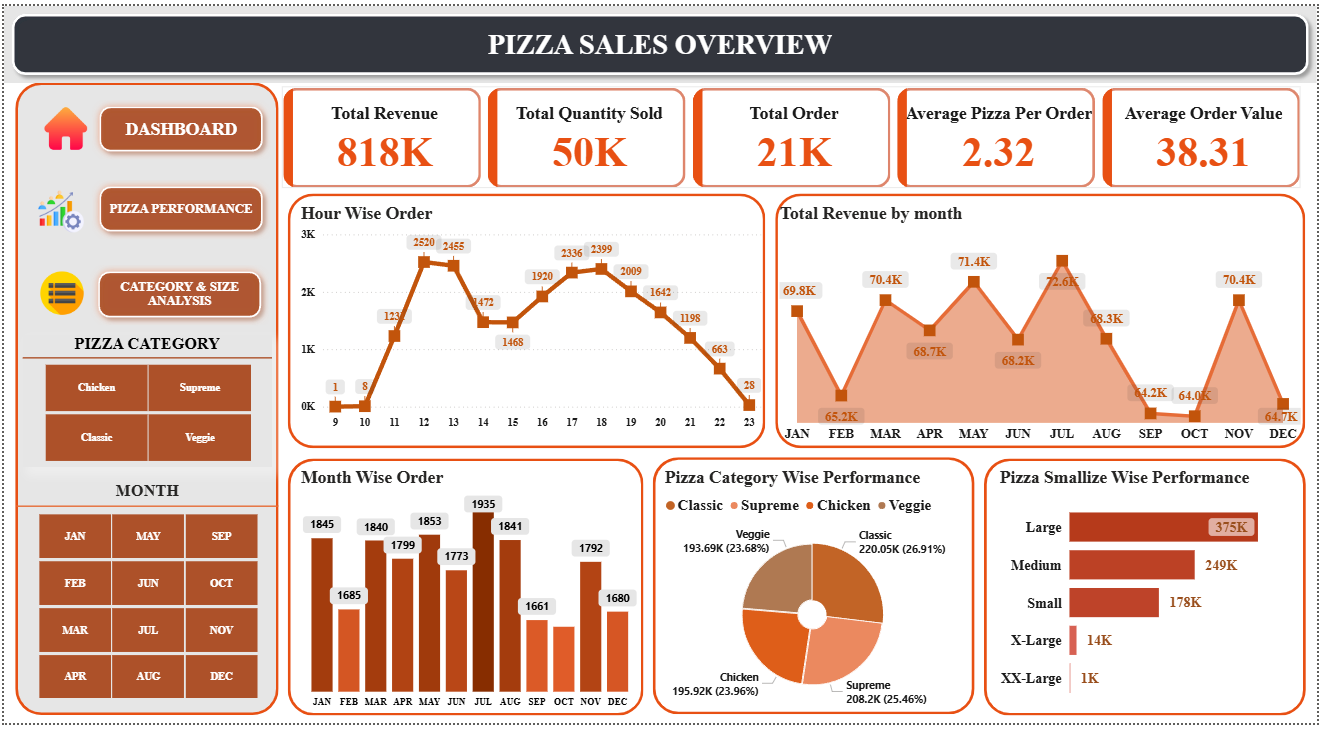

This screenshot's page, from the dashboard's own definition file:
{"tool":"powerbi","page":{"name":"Pizza Sales Overview","canvas":[1500,820],"ordinal":0},"visuals":[{"type":"shape","box":[12.7,87.2,301.1,723.3],"z":0},{"type":"shape","box":[0,0,1499.9,87.7],"z":1000},{"type":"cardVisual","fields":{"Data":["pizza_sales.Total Revenue","pizza_sales.Total Quantity Sold","pizza_sales.Total Order","pizza_sales.Average Pizza Per Order","pizza_sales.Average Order Value"]},"box":[313.4,87.7,1174,126.7],"z":2000},{"type":"shape","box":[324.5,214.5,545.9,291.1],"z":3000},{"type":"shape","box":[324.5,516.7,406.7,293.9],"z":4000},{"type":"shape","box":[881.6,214.5,605.8,291.1],"z":5000},{"type":"shape","box":[740.9,515.3,367.7,293.9],"z":6000},{"type":"shape","box":[1119.7,516.7,367.7,293.9],"z":7000},{"type":"columnChart","title":"       Month Wise Order","fields":{"Category":["pizza_sales.short month"],"Y":["pizza_sales.Total Order"]},"box":[334.2,527.8,396.9,282.7],"z":8000},{"type":"lineChart","title":"Total Revenue by month","fields":{"Category":["pizza_sales.short month"],"Y":["pizza_sales.Total Revenue"]},"box":[881.6,225.6,605.8,279.9],"z":9000},{"type":"lineChart","title":" Hour Wise Order","fields":{"Category":["pizza_sales.Hour"],"Y":["pizza_sales.Total Order"]},"box":[334.2,225.6,536.2,266],"z":10000},{"type":"donutChart","title":"Pizza Category Wise Performance","fields":{"Category":["pizza_sales.pizza_category"],"Y":["pizza_sales.Total Revenue"]},"box":[750.6,527.8,348.2,281.3],"z":11000},{"type":"barChart","title":"Pizza Smallize Wise Performance","fields":{"Category":["pizza_sales.pizza_Smallize"],"Y":["pizza_sales.Total Revenue"]},"box":[1132.2,527.8,345.4,281.3],"z":12000},{"type":"image","box":[41.8,110,58.5,59.9],"z":13000},{"type":"slicer","title":"PIZZA CATEGORY","fields":{"Values":["pizza_sales.pizza_category"]},"box":[20.9,376.3,284.6,151.2],"z":14000},{"type":"slicer","title":"MONTH","fields":{"Values":["pizza_sales.short month"]},"box":[14.5,543.5,299.1,255.7],"z":15000},{"type":"shape","box":[100.3,105.8,204.7,69.6],"z":16000},{"type":"shape","box":[100.3,197.8,204.7,69.6],"z":17000},{"type":"image","box":[30.6,203.3,69.6,64.1],"z":18000},{"type":"image","box":[33.8,299.1,64.3,59.5],"z":19000},{"type":"shape","box":[98.1,294.3,204.2,70.8],"z":20000}]}

Visuals, with their boxes in screenshot pixels (x1, y1, x2, y2), scaled from the page's 1500x820 canvas onto the 1322x731 screenshot:
shape: bbox=[11, 78, 277, 723]
shape: bbox=[0, 0, 1321, 78]
cardVisual - pizza_sales.Total Revenue x pizza_sales.Total Quantity Sold: bbox=[276, 78, 1311, 191]
shape: bbox=[286, 191, 767, 451]
shape: bbox=[286, 461, 644, 723]
shape: bbox=[777, 191, 1311, 451]
shape: bbox=[653, 459, 977, 721]
shape: bbox=[987, 461, 1311, 723]
"       Month Wise Order" columnChart: bbox=[295, 471, 644, 723]
"Total Revenue by month" lineChart: bbox=[777, 201, 1311, 451]
" Hour Wise Order" lineChart: bbox=[295, 201, 767, 438]
"Pizza Category Wise Performance" donutChart: bbox=[662, 471, 968, 721]
"Pizza Smallize Wise Performance" barChart: bbox=[998, 471, 1302, 721]
image: bbox=[37, 98, 88, 151]
"PIZZA CATEGORY" slicer: bbox=[18, 335, 269, 470]
"MONTH" slicer: bbox=[13, 485, 276, 712]
shape: bbox=[88, 94, 269, 156]
shape: bbox=[88, 176, 269, 238]
image: bbox=[27, 181, 88, 238]
image: bbox=[30, 267, 86, 320]
shape: bbox=[86, 262, 266, 325]
